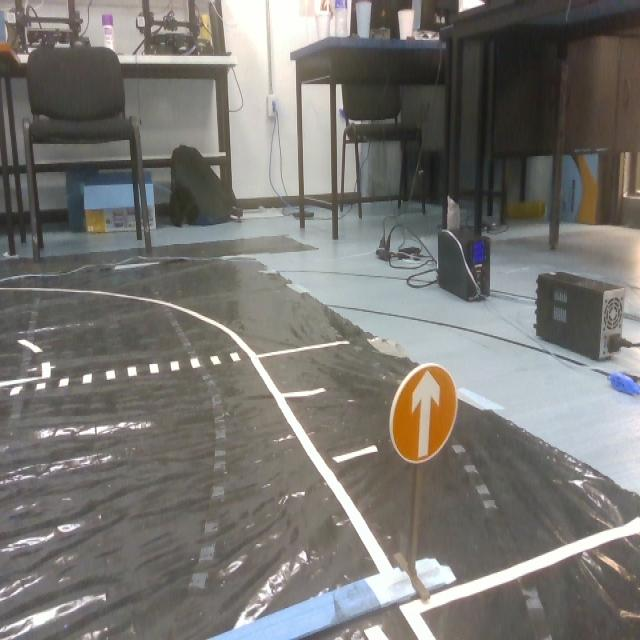right_turn: (382, 358, 464, 466)
